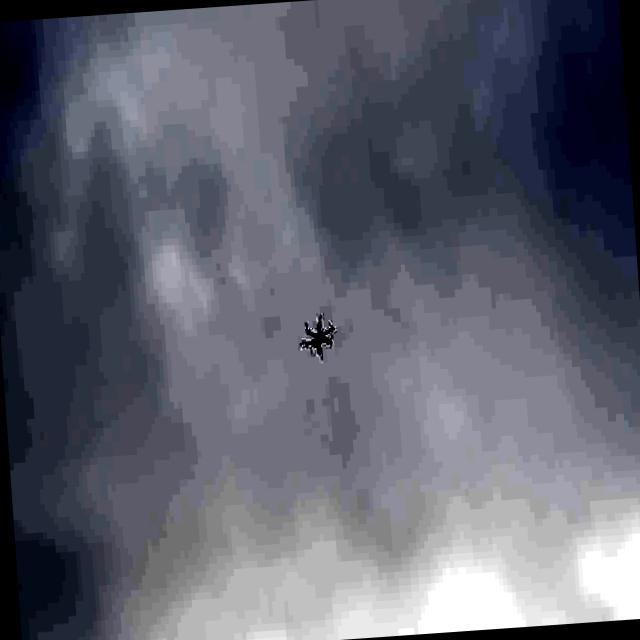drone: (292, 312, 339, 365)
